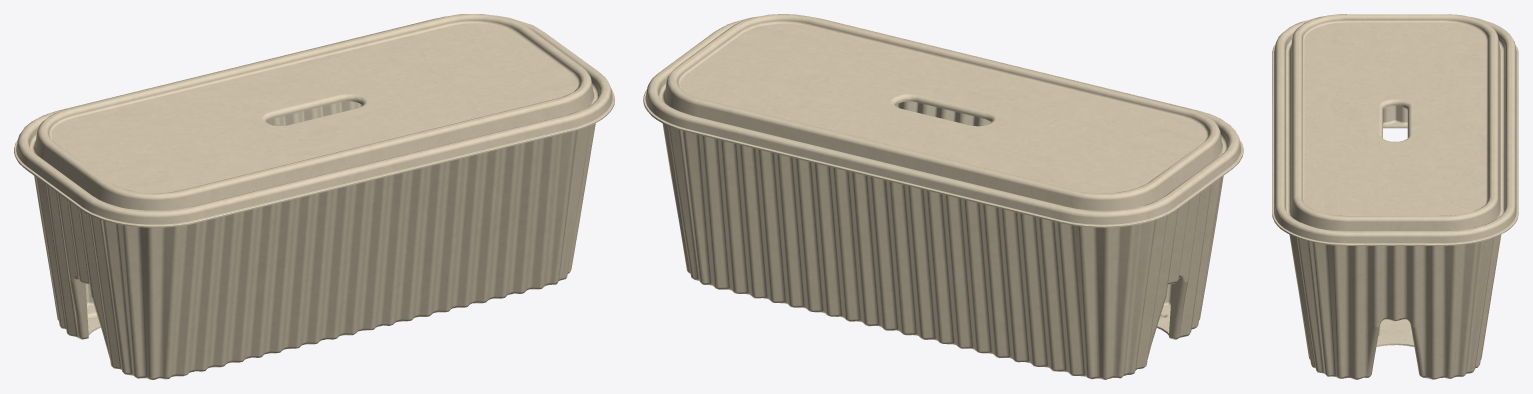
The model's file is hoensnaet_cable_management_box_natural.glb.
3 renders of one model, left to right at view 1: azimuth 30°, elevation 25°; view 2: azimuth 150°, elevation 25°; view 3: azimuth 270°, elevation 25°, orthographic. The views are drawn at different scales.
Parts seen in each view (by area): view 1: model; view 2: model; view 3: model.
Boxes of the visible parts, x1,y1,x2,y2 form: model: (14, 14, 614, 379); model: (643, 14, 1243, 379); model: (1272, 14, 1518, 379).
Bounding box in the file's own units: 0.3825 × 0.1375 × 0.1785.
Materials: 1 (1 with a texture image).
